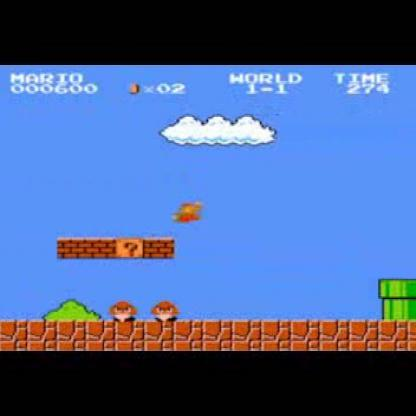Goomba: (110, 299, 139, 322), (152, 298, 180, 320)
